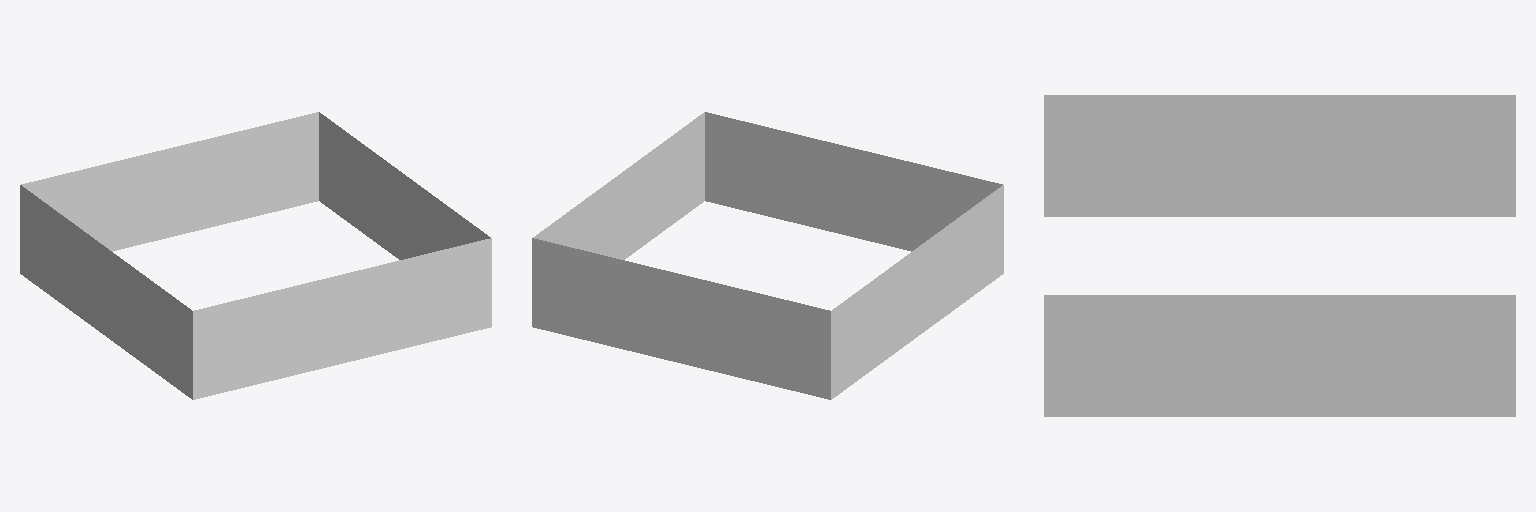
URDF robot description (walls.urdf):
<?xml version="1.0" ?>
<robot name="walls.urdf">
  <link name="baseLink">

    <inertial>
      <origin rpy="0 0 0" xyz="0 0 0"/>
       <mass value="0.0"/>
       <inertia ixx="0" ixy="0" ixz="0" iyy="0" iyz="0" izz="0"/>
    </inertial>
    <visual>
      <origin rpy="0 0 0" xyz="0 0 0"/>
      <geometry>
        <mesh filename="walls.obj" scale="1.0 1.0 1.0"/>
      </geometry>
      <material name="white">
       <color rgba="1 1 1 1"/>
     </material>
    </visual>
    <collision>
      <origin rpy="0 0 0" xyz="0 0 0"/>
      <geometry>
        <mesh filename="walls.obj" scale="1.0 1.0 1.0"/>
        <!-- You could also specify the collision (for the cube) with a "box" tag: -->
        <!-- <box size=".06 .06 .06"/> -->
      </geometry>
    </collision>
  </link>
</robot>

--- Render facts (derived) ---
3 views of the same robot in one strip: view 1: azimuth 30°, elevation 25°; view 2: azimuth 150°, elevation 25°; view 3: azimuth 270°, elevation 25° (orthographic).
Model walls.urdf with 1 links and 0 joints (none), rooted at baseLink, posed all joints at 0.
Links seen in each view (by area): view 1: baseLink; view 2: baseLink; view 3: baseLink.
Link boxes in pixels (x1,y1,x2,y2): baseLink: [20, 112, 491, 399]; baseLink: [532, 112, 1003, 399]; baseLink: [1044, 95, 1515, 416].
Bounding box of the posed robot: 7 × 7 × 2 m (x, y, z).
Meshes: 1 distinct files referenced, 1 mesh visuals loaded (1 OBJ).